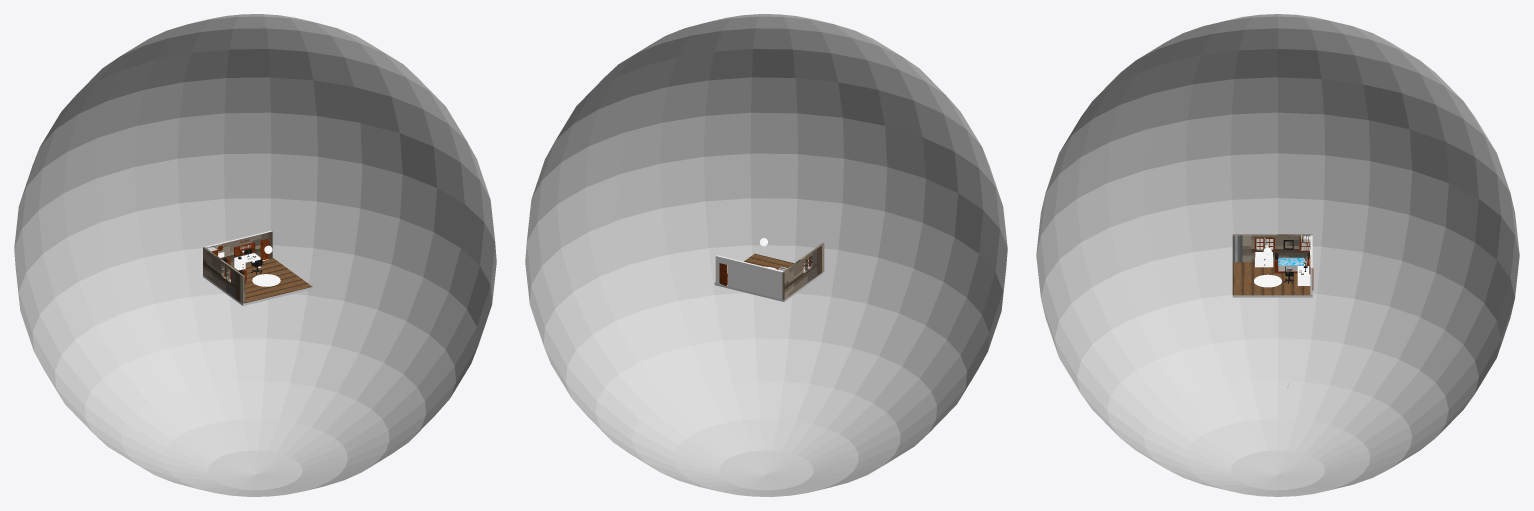
The model's file is Bedroom102.glb.
3 views of the same model, side by side, from view 1: azimuth 30°, elevation 25°; view 2: azimuth 150°, elevation 25°; view 3: azimuth 270°, elevation 25° (orthographic).
Visible parts, largest first — view 1: Skybackground, Cube, Cube.001, Cube.002; view 2: Skybackground, Cube.002, Cube.001, Cube; view 3: Skybackground, Cube, Cube.001, Bed.
Boxes of the visible parts, bbox=[...] form: Skybackground: bbox=[14, 14, 496, 496]; Cube: bbox=[203, 258, 312, 305]; Cube.001: bbox=[203, 247, 244, 303]; Cube.002: bbox=[205, 230, 272, 267]; Skybackground: bbox=[525, 14, 1007, 496]; Cube.002: bbox=[715, 255, 783, 299]; Cube.001: bbox=[782, 243, 824, 300]; Cube: bbox=[714, 253, 824, 301]; Skybackground: bbox=[1036, 14, 1519, 496]; Cube: bbox=[1232, 262, 1312, 297]; Cube.001: bbox=[1232, 234, 1312, 262]; Bed: bbox=[1274, 251, 1309, 273].
Bounding box in the file's own units: 116 × 111 × 111.
Materials: 24 (12 with a texture image).
